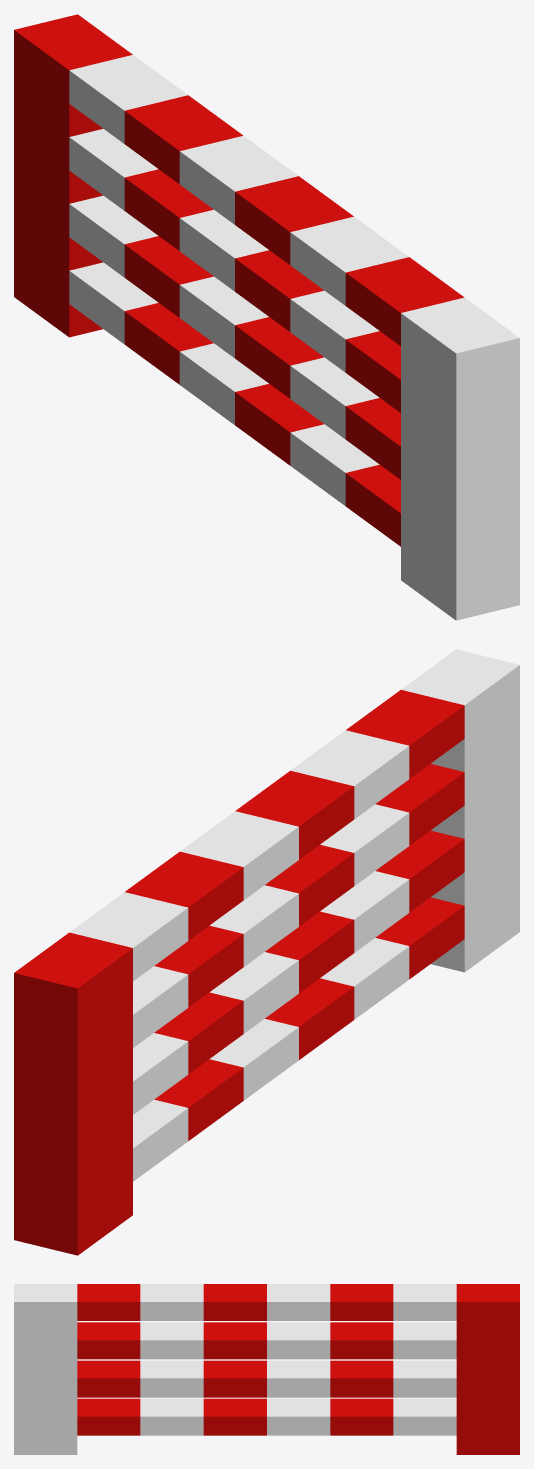
File: fence 4.fbx
3 views of the same model, one above another, from view 1: azimuth 30°, elevation 25°; view 2: azimuth 150°, elevation 25°; view 3: azimuth 270°, elevation 25° (orthographic). The views are drawn at different scales.
Visible parts, largest first — view 1: Plane.094; view 2: Plane.094; view 3: Plane.094.
Boxes of the visible parts, x1,y1,x2,y2 form: Plane.094: [14, 14, 519, 620]; Plane.094: [14, 649, 519, 1255]; Plane.094: [14, 1284, 519, 1454].
Bounding box in the file's own units: 50 × 200 × 600.
